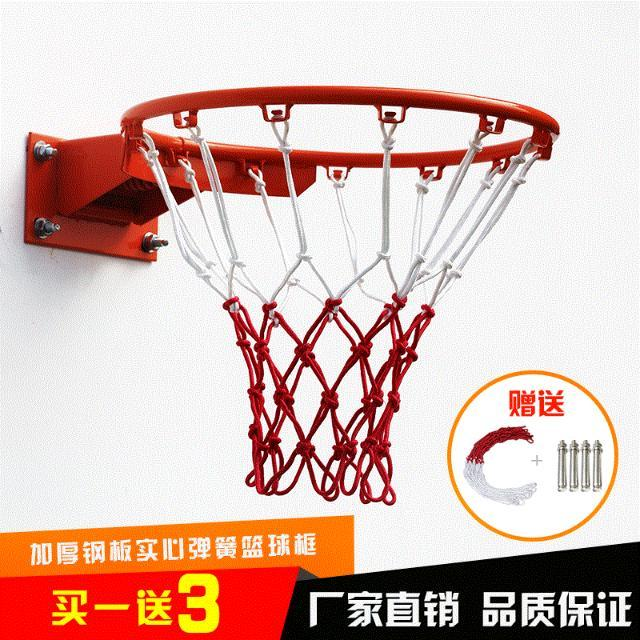rim: (122, 84, 558, 510)
